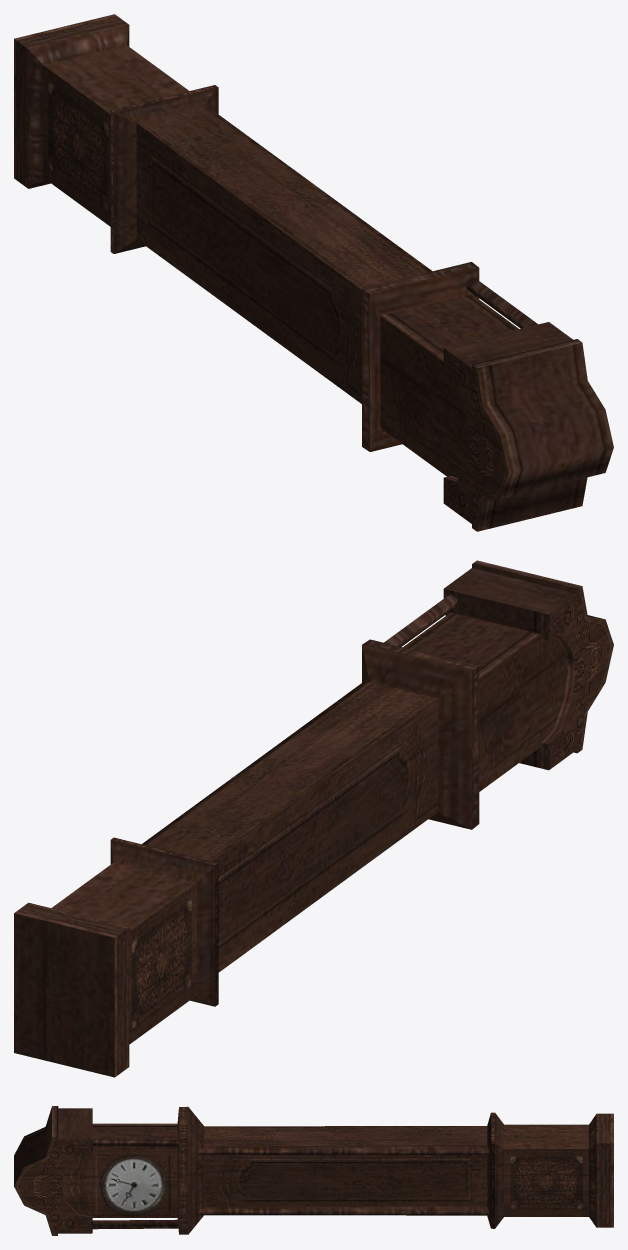
File: furniture_duhoc_clock.glb
The picture shows the model from 3 angles, top to bottom: view 1: azimuth 30°, elevation 25°; view 2: azimuth 150°, elevation 25°; view 3: azimuth 270°, elevation 25°; orthographic projection. The views are drawn at different scales.
Size of the model in its own units: 13.07 by 18.58 by 102.
1 material, 1 textured.
